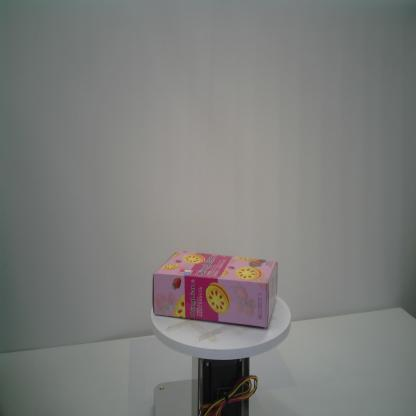Dessert: (152, 247, 280, 329)
